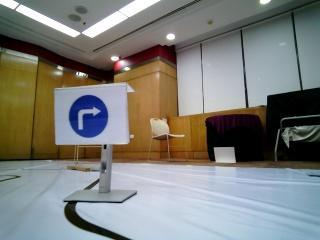right: (52, 87, 131, 144)
